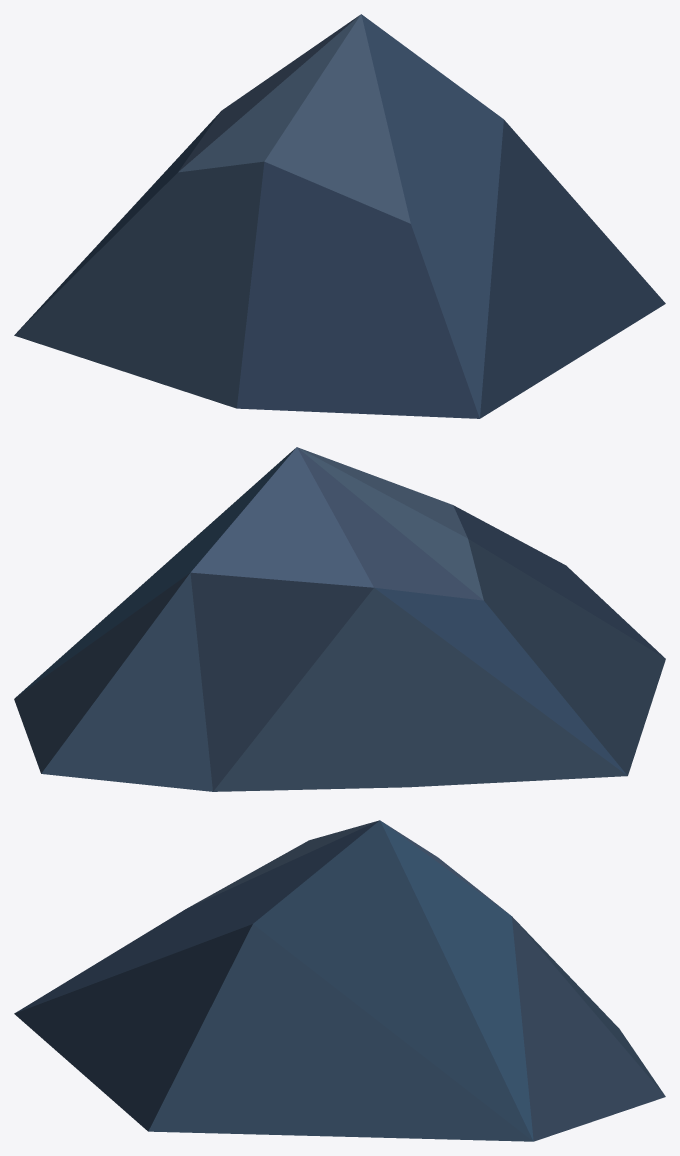
File: Mountain.glb
3 renders of one model, top to bottom at view 1: azimuth 30°, elevation 25°; view 2: azimuth 150°, elevation 25°; view 3: azimuth 270°, elevation 25°, orthographic. The views are drawn at different scales.
Visible parts, largest first — view 1: Mountain; view 2: Mountain; view 3: Mountain.
Part boxes in pixels (<box>): Mountain: <box>14,14,665,418</box>; Mountain: <box>14,447,665,791</box>; Mountain: <box>14,820,665,1141</box>.
Size of the model in its own units: 327 by 140 by 362.
